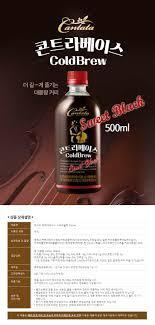contrabass_sweetblack: (49, 69, 108, 196)
